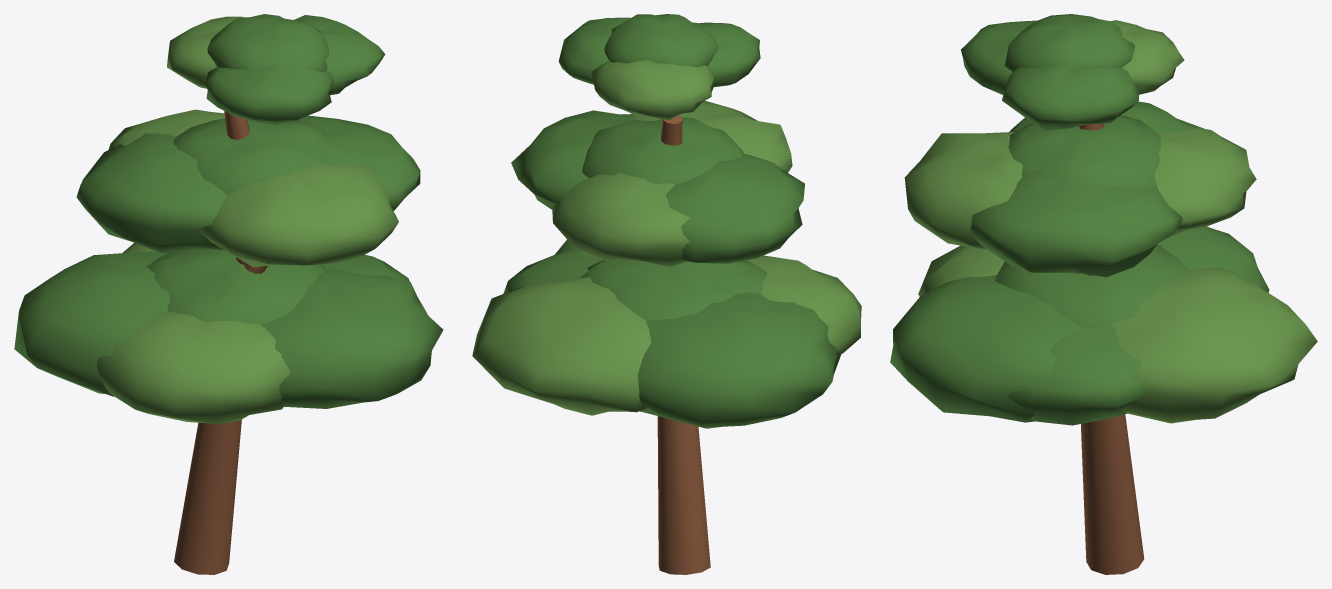
The model's file is tree_pine.glb.
The picture shows the model from 3 angles, left to right: view 1: azimuth 30°, elevation 25°; view 2: azimuth 150°, elevation 25°; view 3: azimuth 270°, elevation 25°; orthographic projection. The views are drawn at different scales.
Parts seen in each view (by area): view 1: tree_pine; view 2: tree_pine; view 3: tree_pine.
Part boxes in pixels (<box>): tree_pine: <box>14,14,443,574</box>; tree_pine: <box>472,14,861,574</box>; tree_pine: <box>890,14,1317,574</box>.
Size of the model in its own units: 2.15 by 3.16 by 2.18.
